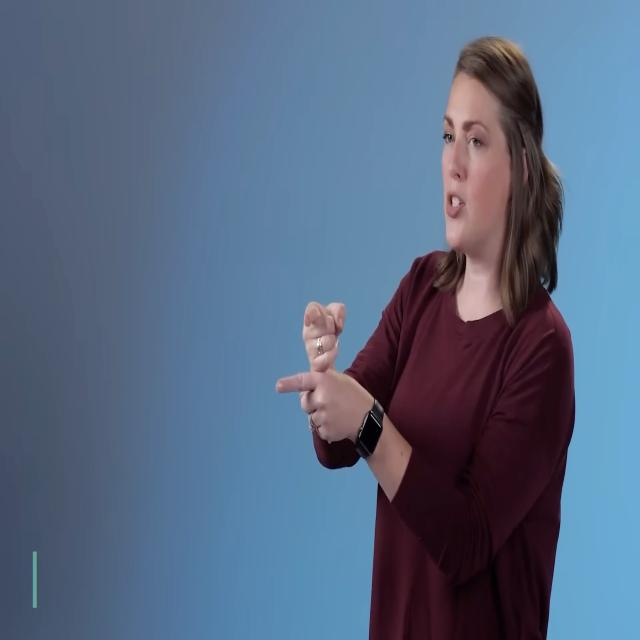correct: (268, 263, 388, 484)
